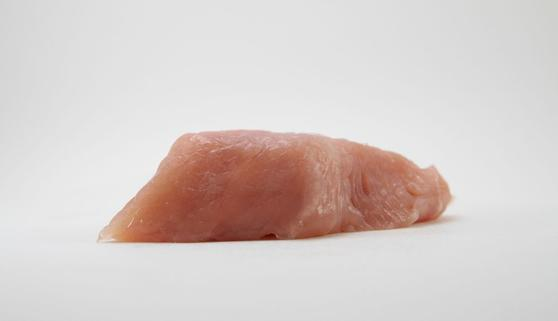chicken_fillet: (92, 127, 459, 248)
